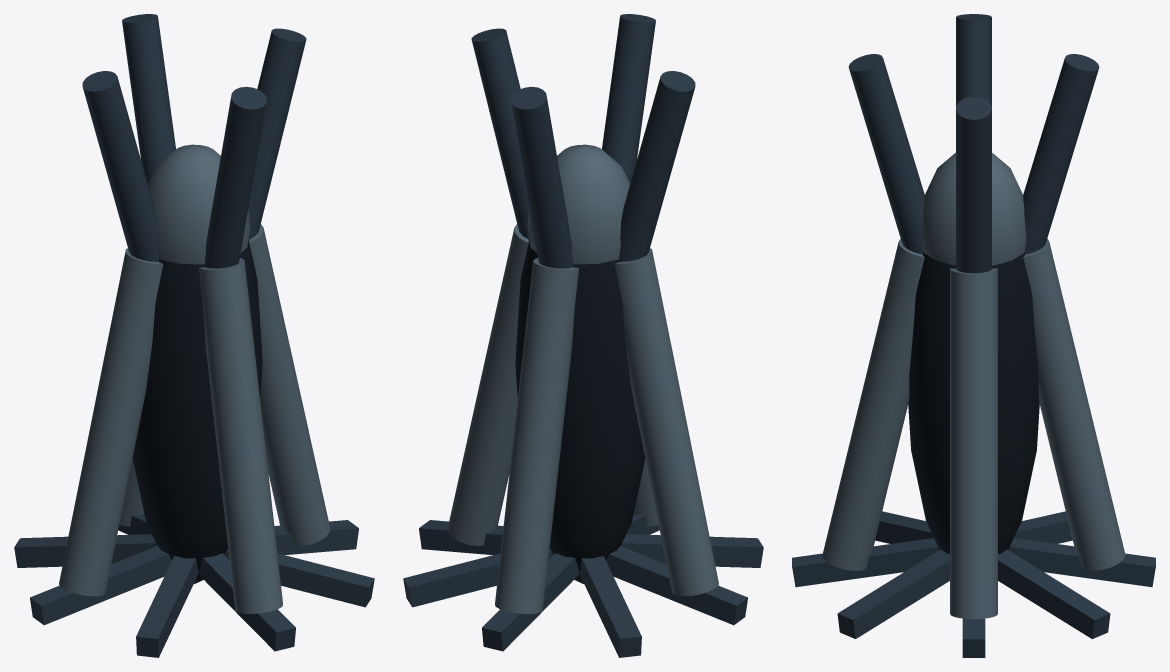
File: CMU3DHiveHiveAcidPillarXeno.glb
3 views of the same model, side by side, from view 1: azimuth 30°, elevation 25°; view 2: azimuth 150°, elevation 25°; view 3: azimuth 270°, elevation 25° (orthographic).
Visible parts, largest first — view 1: curved lower prong (×4), upper prong (×4), central resin stalk, anchoring root (×6), acid firing sac; view 2: curved lower prong (×4), upper prong (×4), central resin stalk, anchoring root (×6), acid firing sac; view 3: curved lower prong (×3), upper prong (×4), central resin stalk, anchoring root (×7), acid firing sac.
Boxes of the visible parts, x1=… form: curved lower prong (×4): x1=59, y1=224, x2=329, y2=613; upper prong (×4): x1=82, y1=14, x2=306, y2=268; central resin stalk: x1=132, y1=239, x2=262, y2=583; anchoring root (×6): x1=14, y1=520, x2=374, y2=657; acid firing sac: x1=148, y1=144, x2=250, y2=264; curved lower prong (×4): x1=448, y1=224, x2=718, y2=613; upper prong (×4): x1=471, y1=14, x2=695, y2=268; central resin stalk: x1=515, y1=239, x2=645, y2=583; anchoring root (×6): x1=403, y1=520, x2=763, y2=657; acid firing sac: x1=527, y1=144, x2=629, y2=264; curved lower prong (×3): x1=822, y1=239, x2=1125, y2=619; upper prong (×4): x1=848, y1=14, x2=1099, y2=273; central resin stalk: x1=908, y1=252, x2=1039, y2=554; anchoring root (×7): x1=792, y1=511, x2=1155, y2=657; acid firing sac: x1=921, y1=153, x2=1026, y2=265.
Size of the model in its own units: 0.9085 by 1.45 by 0.9085.
